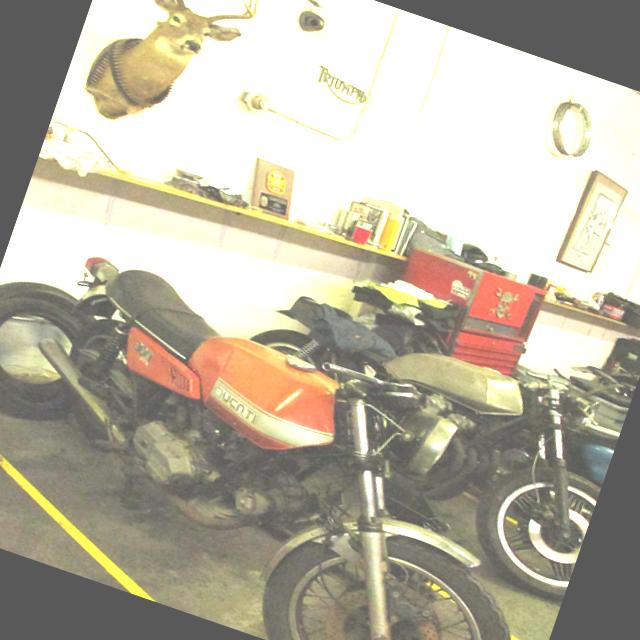Vehicle: (0, 252, 594, 640), (200, 252, 639, 600)
